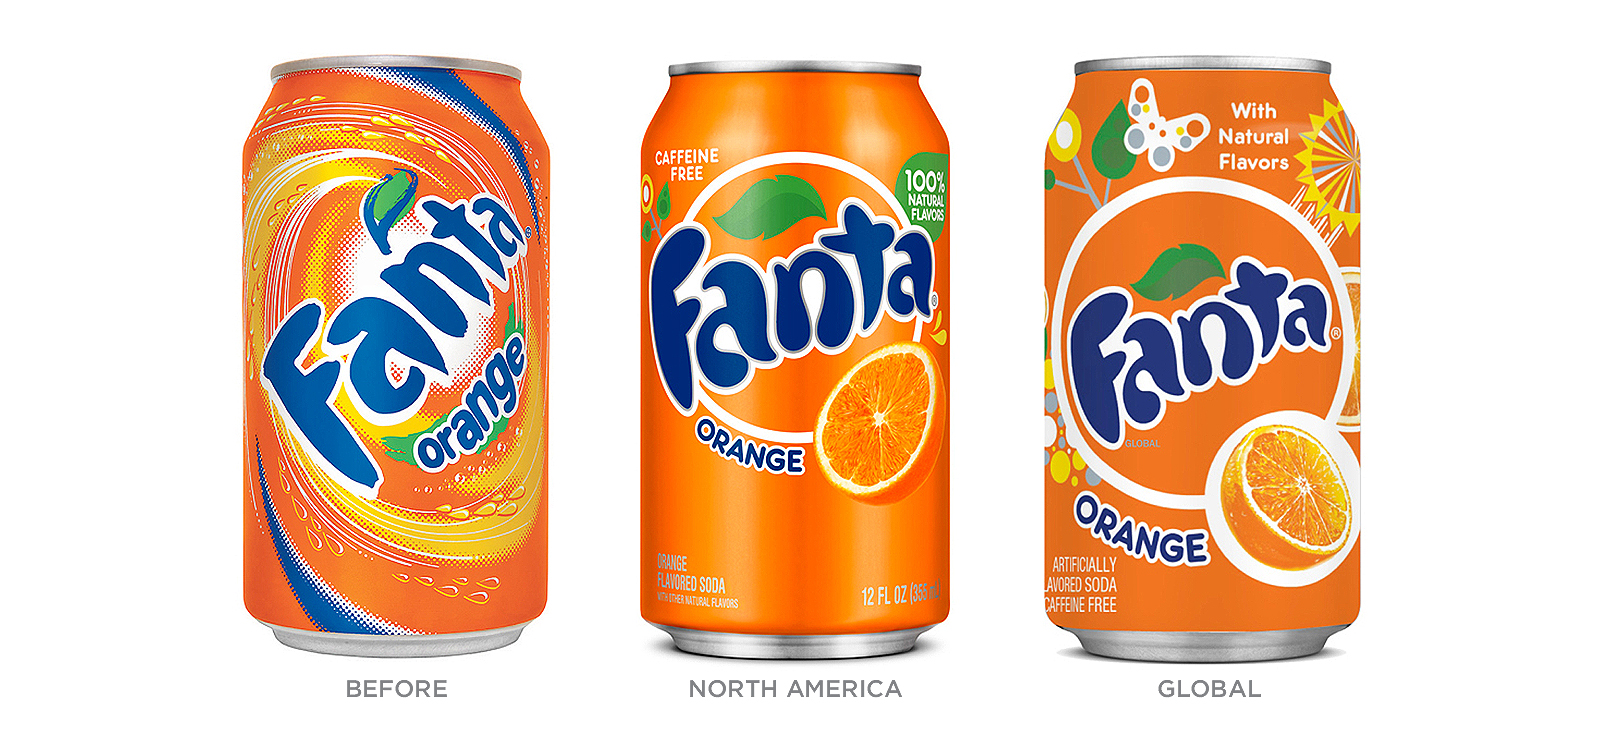Fanta: (1037, 50, 1369, 666), (628, 54, 959, 670), (230, 60, 561, 676)
